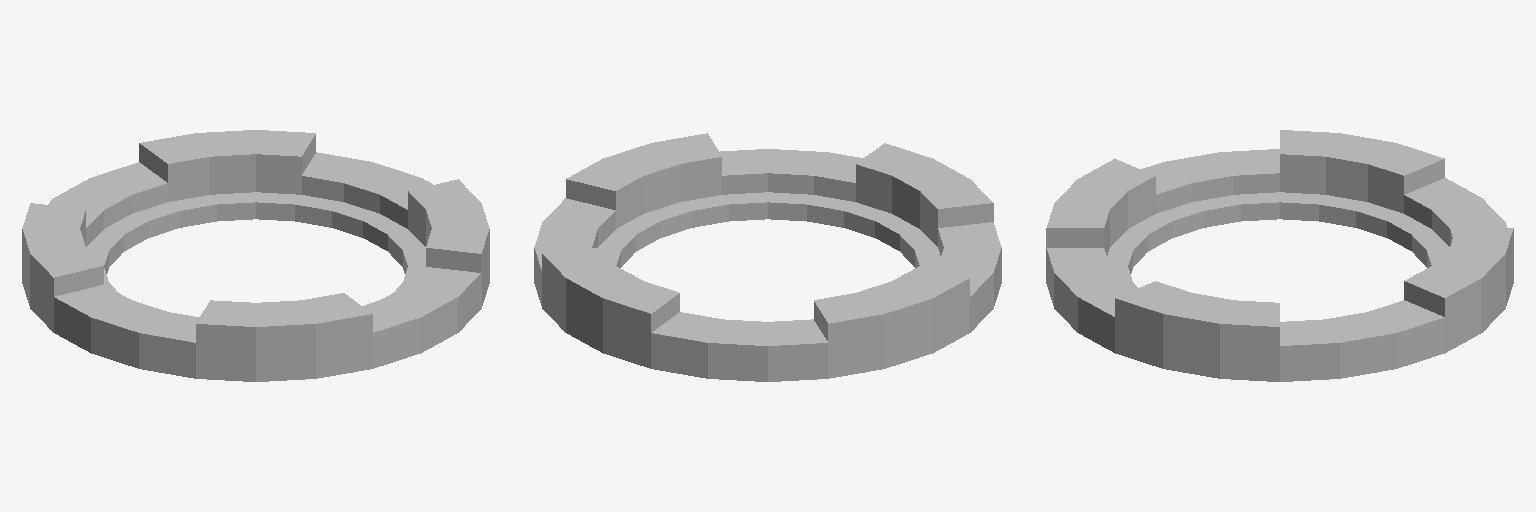
The model's file is towerTop.obj.
3 renders of one model, left to right at view 1: azimuth 30°, elevation 25°; view 2: azimuth 150°, elevation 25°; view 3: azimuth 270°, elevation 25°, orthographic.
Visible parts, largest first — view 1: towerTop; view 2: towerTop; view 3: towerTop.
Boxes of the visible parts, box(x1,y1,x2,y2) form: towerTop: box(22, 130, 489, 381); towerTop: box(534, 133, 1001, 381); towerTop: box(1046, 130, 1513, 381).
Bounding box in the file's own units: 10 × 1.3 × 10.